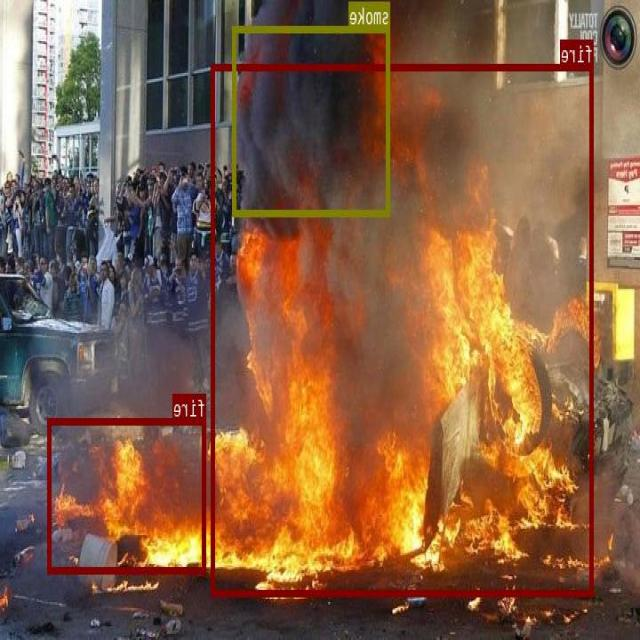fire: (212, 63, 594, 596), (48, 417, 207, 572)
smoke: (233, 26, 390, 216)
